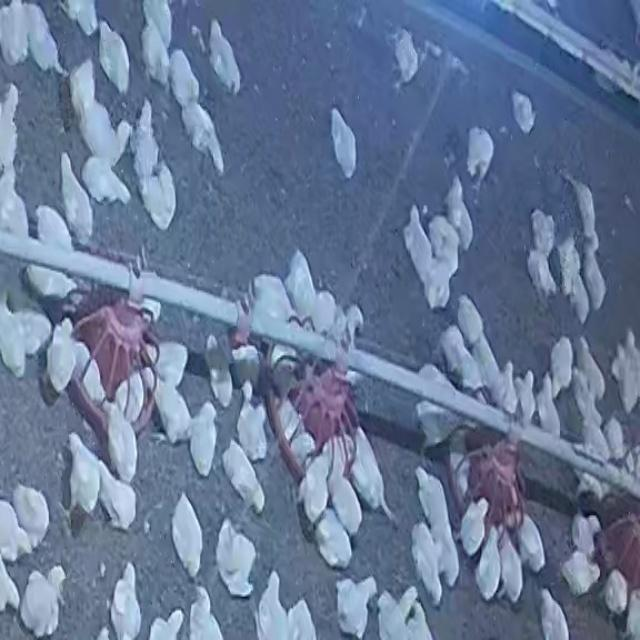chicken: (349, 423, 395, 520), (62, 432, 104, 526), (92, 452, 139, 532), (325, 444, 363, 537), (414, 467, 454, 555), (59, 152, 98, 240), (221, 439, 266, 515), (438, 326, 483, 402), (182, 103, 226, 179), (19, 567, 66, 638), (215, 519, 257, 598), (203, 15, 243, 96), (44, 316, 84, 396), (170, 492, 205, 580), (103, 399, 140, 482), (154, 376, 194, 448), (334, 575, 380, 637), (79, 105, 127, 164), (131, 98, 161, 192), (81, 155, 134, 208), (311, 508, 354, 572), (25, 4, 63, 76), (410, 521, 442, 605), (298, 450, 333, 526), (315, 286, 363, 341), (572, 335, 606, 411), (98, 20, 132, 94), (137, 164, 174, 231), (110, 563, 142, 640), (610, 331, 640, 413), (256, 572, 292, 640), (573, 377, 607, 449), (236, 389, 269, 462), (284, 249, 314, 329), (397, 202, 429, 276), (474, 526, 505, 602), (0, 496, 33, 566), (0, 300, 30, 377), (140, 13, 172, 85), (187, 402, 219, 474), (0, 171, 31, 245), (554, 235, 584, 311), (204, 334, 234, 410), (16, 481, 50, 548), (444, 171, 474, 246), (567, 175, 599, 245), (25, 264, 79, 305), (424, 214, 462, 272), (495, 526, 523, 602), (458, 495, 491, 559), (34, 203, 76, 253), (0, 0, 30, 68), (0, 82, 21, 178), (514, 512, 546, 575), (581, 244, 607, 321), (375, 588, 415, 638), (188, 588, 226, 640), (559, 550, 600, 598), (66, 55, 100, 111), (456, 293, 488, 351), (332, 107, 357, 181), (115, 372, 148, 428), (252, 276, 290, 324), (538, 588, 572, 640), (464, 126, 495, 182), (388, 32, 417, 90), (526, 248, 558, 300), (548, 335, 574, 398), (153, 338, 190, 382), (569, 512, 602, 561), (534, 374, 560, 436), (14, 312, 51, 354), (513, 369, 538, 430), (172, 51, 199, 107), (59, 0, 100, 36), (286, 598, 321, 640), (417, 267, 453, 307), (272, 341, 299, 393), (602, 569, 630, 618), (146, 607, 187, 640), (530, 207, 556, 258), (509, 90, 538, 135), (234, 343, 264, 386), (498, 366, 520, 424), (84, 360, 106, 411), (602, 417, 626, 460), (275, 400, 296, 443), (286, 432, 315, 460)
